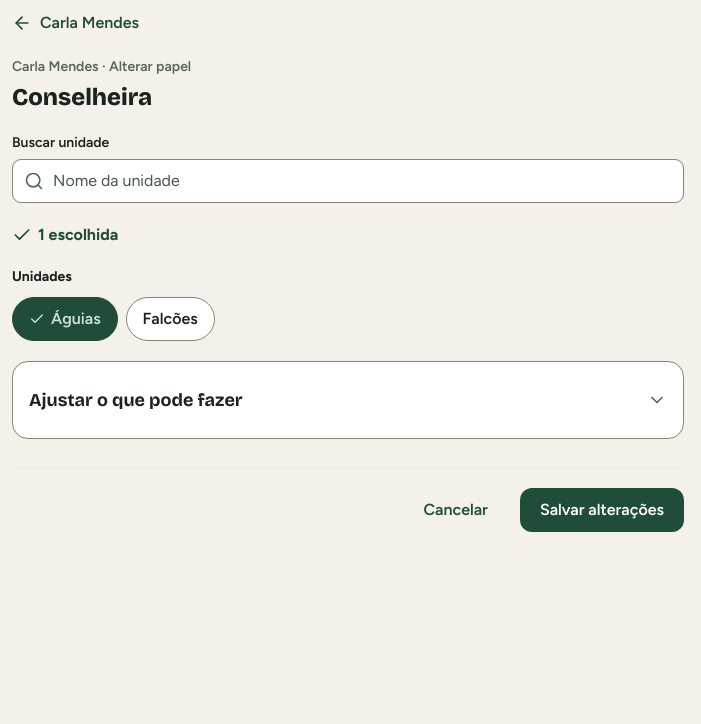
Test: Alterar papel · tela › "Ajustar o que pode fazer" começa recolhido, com aria-expanded e aria-controls
This screenshot has width=701, height=724.
Click the button "Ajustar o que pode fazer" at [136, 400], box left=29, top=378, right=667, bottom=422
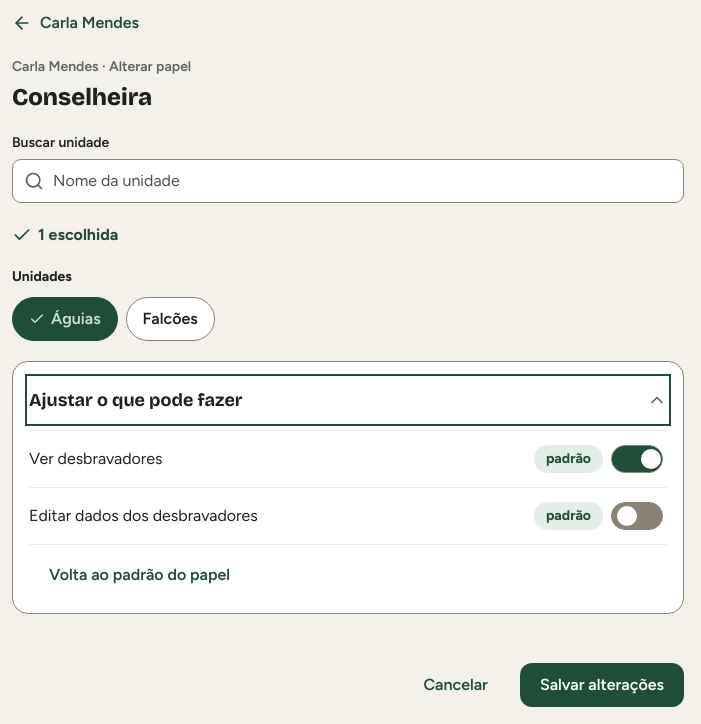
expect the button "Ajustar o que pode fazer" is expanded: met, box left=29, top=378, right=667, bottom=422
